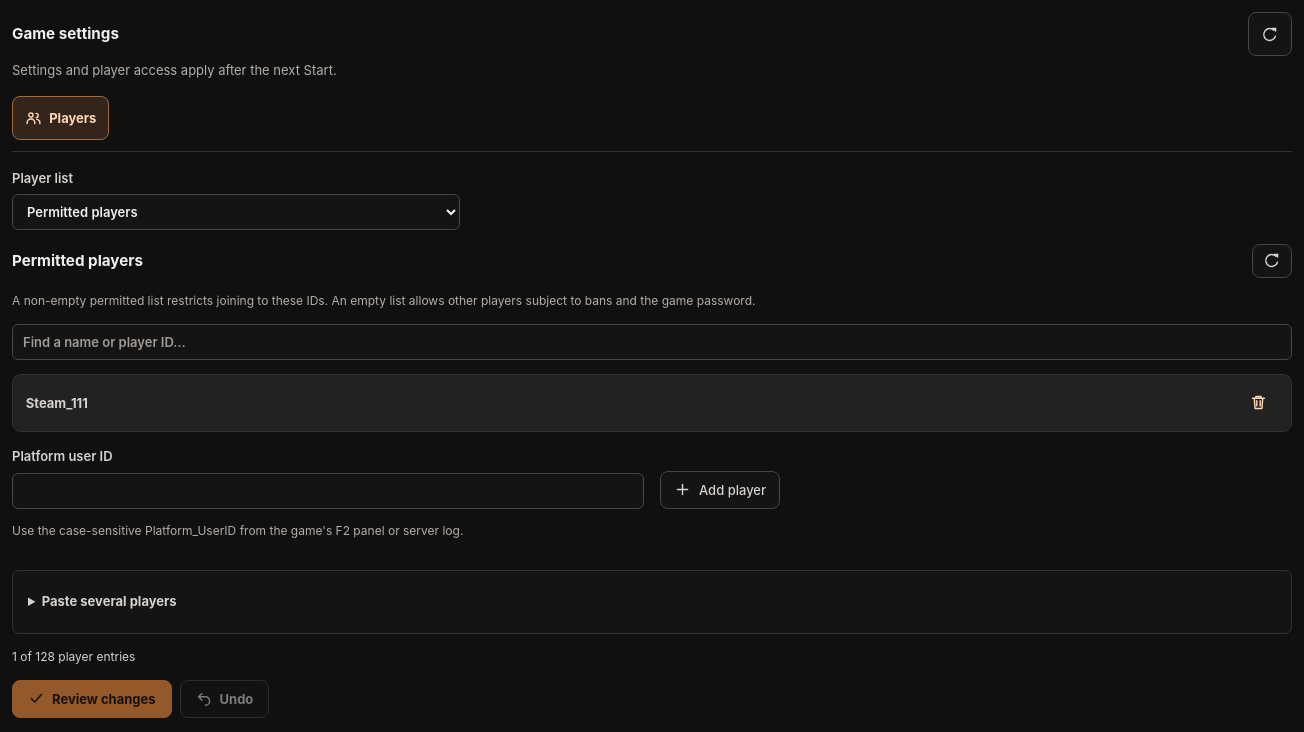
Scenario: adds and removes real typed Valheim IDs with the non-empty permitted-list restriction visible
The image size is (1304, 732).
Expected: the dropdown labelled "Player list" is enabled, 12,194 -> 460,230
Expected: the text "Steam_111" is shown, 26,395 -> 88,411
Click the button named "Remove Steam_111".
click(1258, 403)  # box 1238,386 -> 1278,420
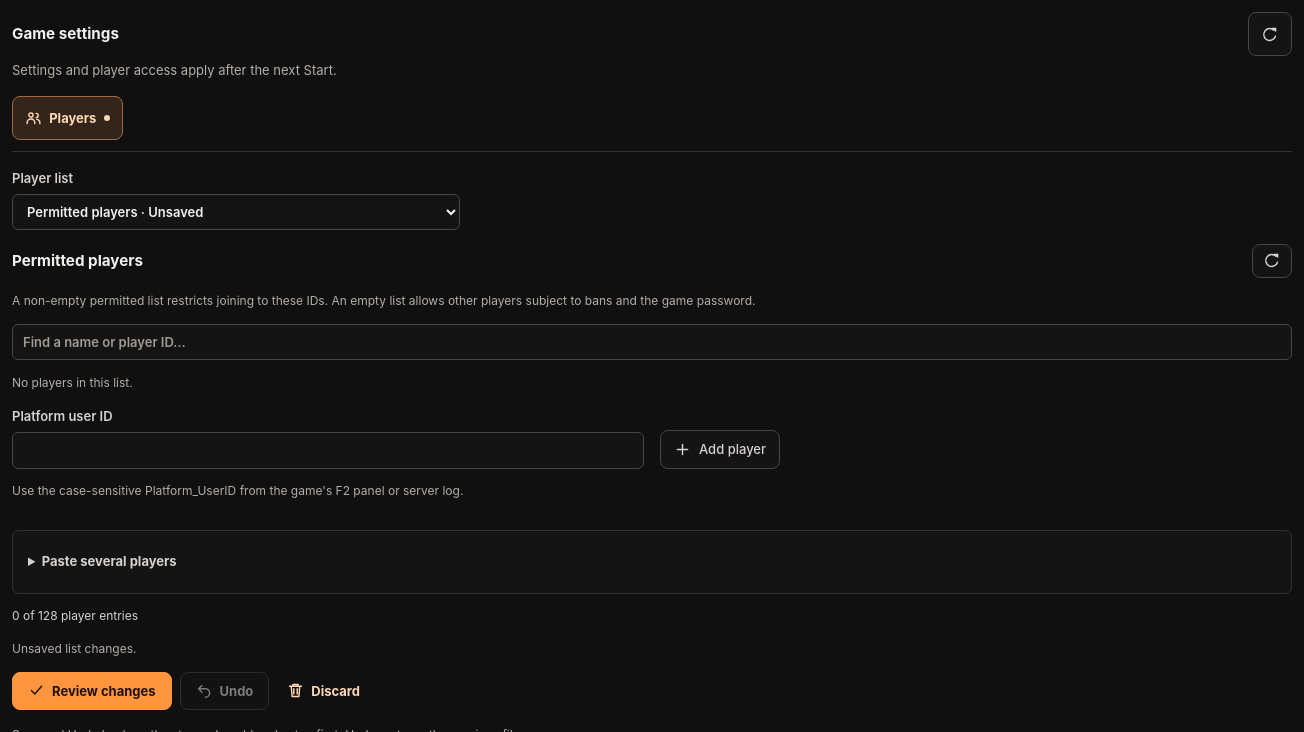
Type "Steam_222" into the field labelled "Platform user ID".
click(328, 450); type("Steam_222")  # box 12,432 -> 644,468
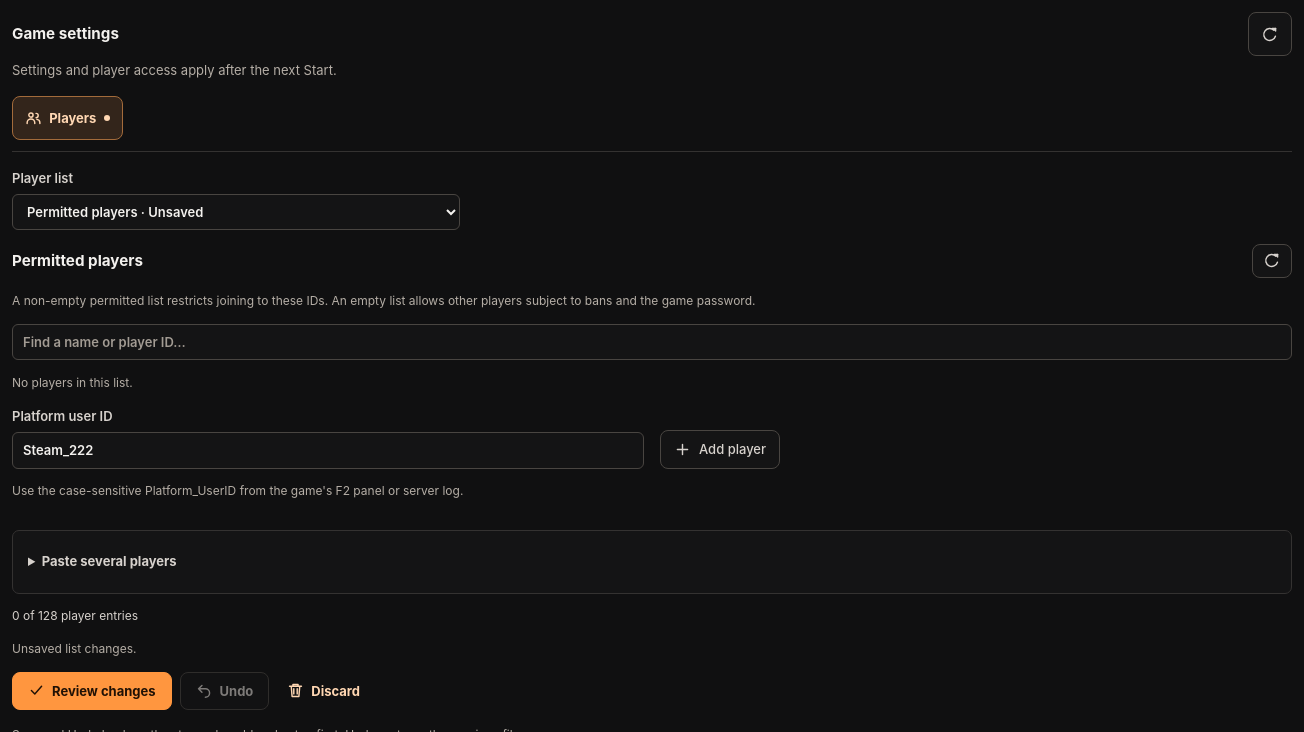
Click the button "Add player".
click(720, 449)  # box 660,430 -> 780,468
(page scrolled)
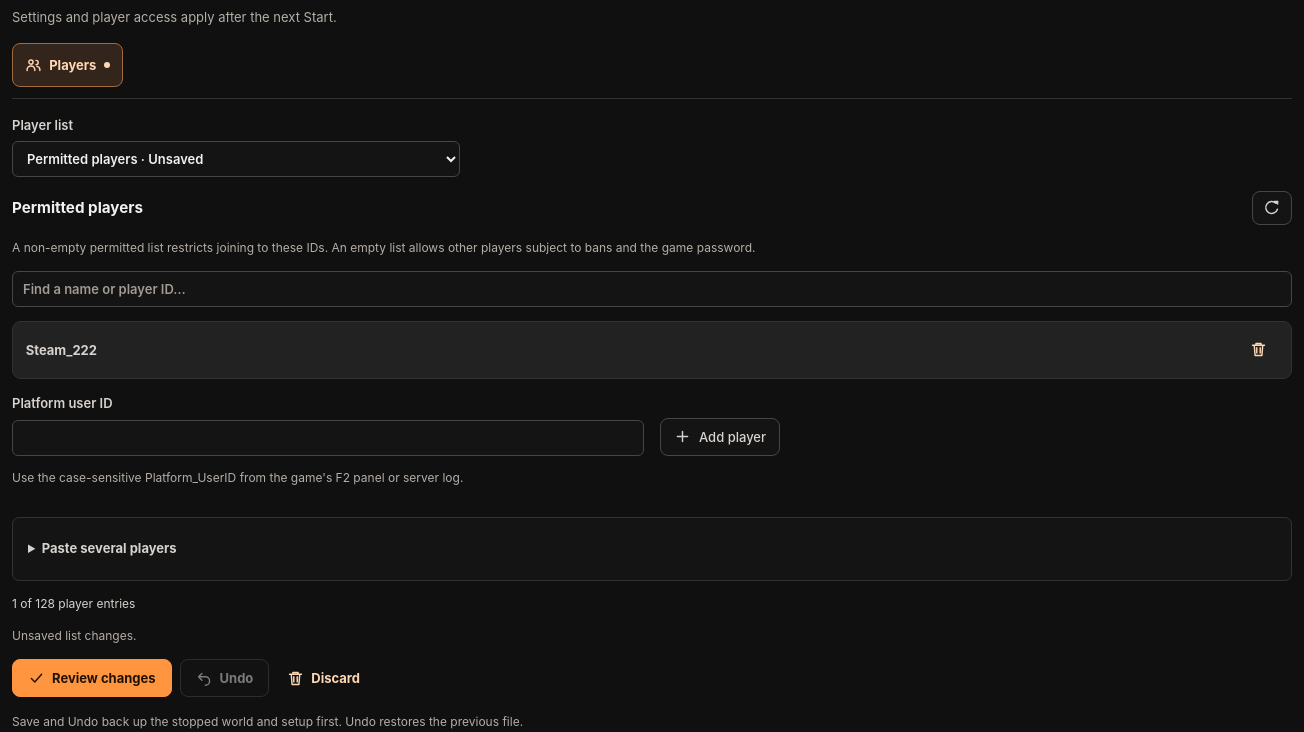
Click the button with aria-label "Review list changes".
click(92, 678)  # box 12,659 -> 172,697
(page scrolled)
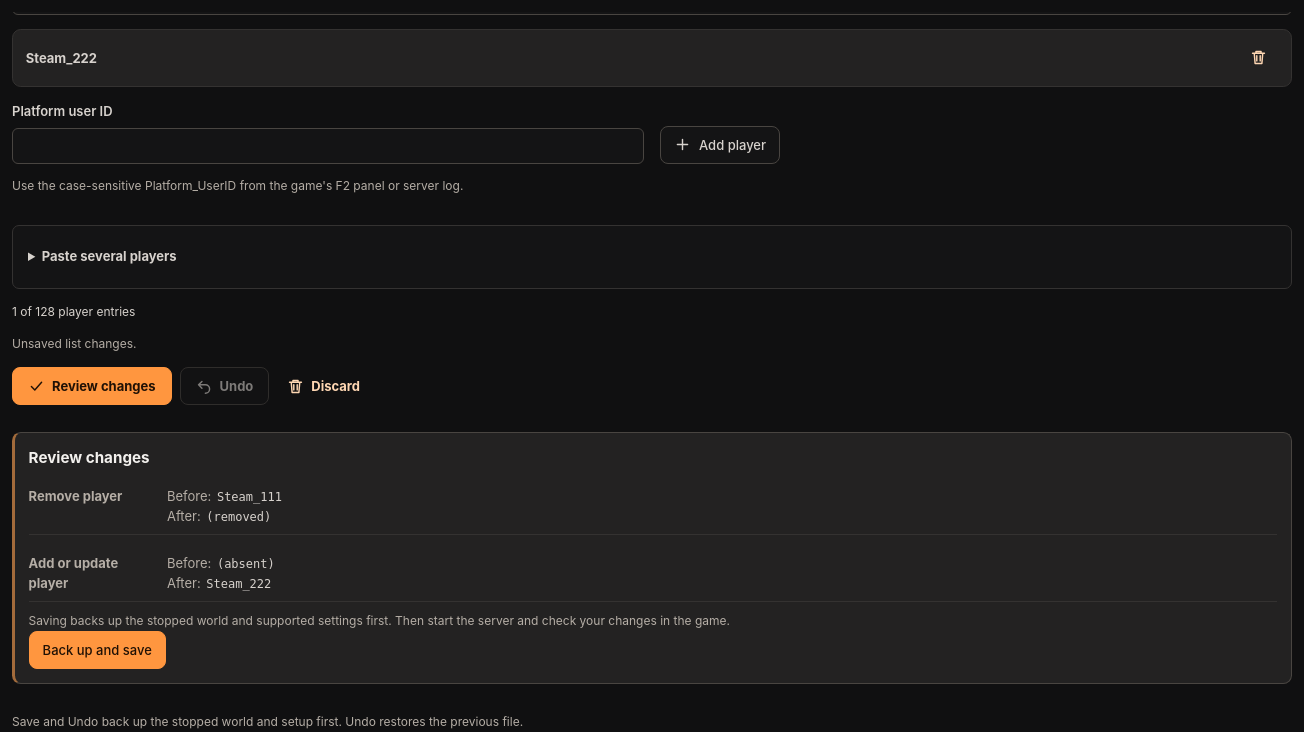
Expected: the element named "Review exact changes" is shown, 12,432 -> 1292,684
Click the button "Back up and save".
click(97, 650)  # box 29,631 -> 166,669
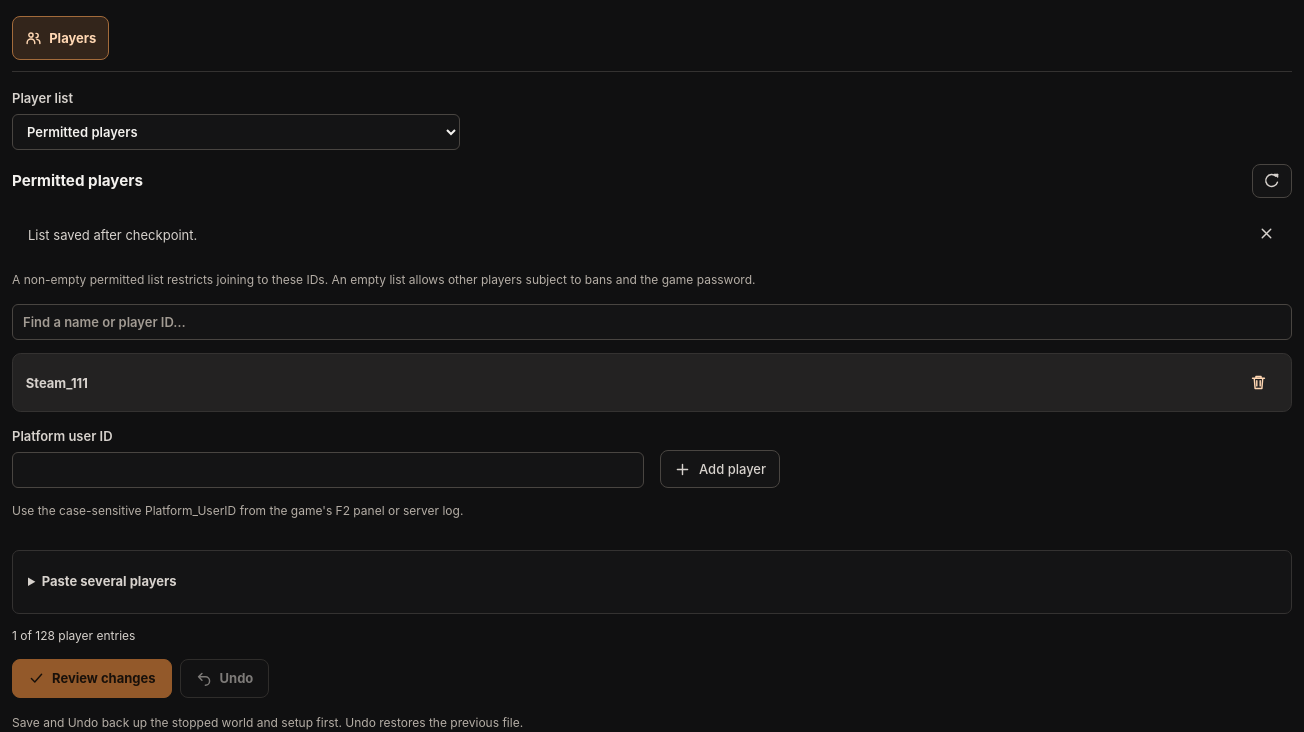
Expected: the text "List saved after checkpoint." is shown, 12,212 -> 1292,258
